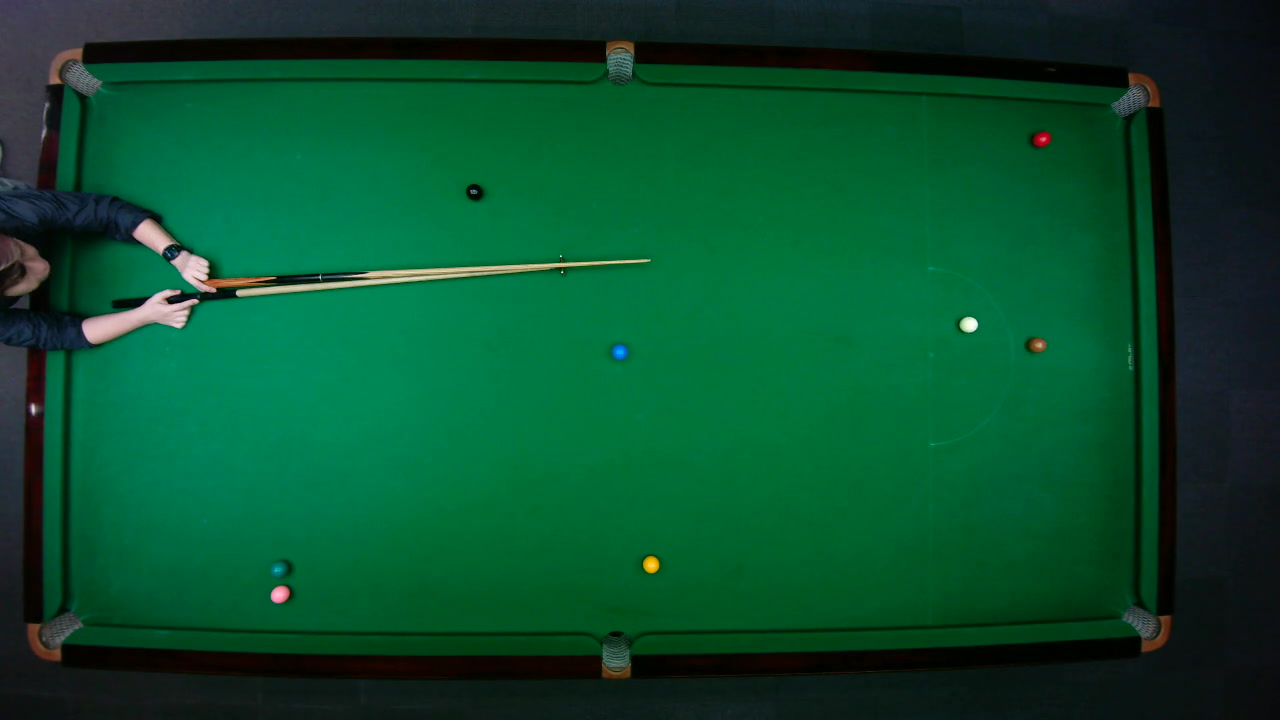bag: (25, 609, 83, 661), (46, 47, 102, 96), (1119, 603, 1171, 651), (1109, 72, 1160, 118), (601, 629, 630, 679), (605, 38, 633, 85)
black: (464, 183, 483, 200)
blue: (610, 343, 628, 360)
brown: (1026, 336, 1047, 353)
cue: (187, 256, 654, 302)
green: (269, 558, 289, 576)
pink: (269, 583, 290, 604)
red: (1031, 130, 1051, 147)
white: (957, 315, 978, 333)
yellow: (641, 554, 660, 574)
zone: (926, 266, 1014, 445)
